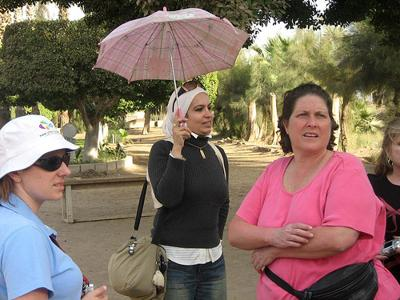person: (148, 80, 230, 300)
